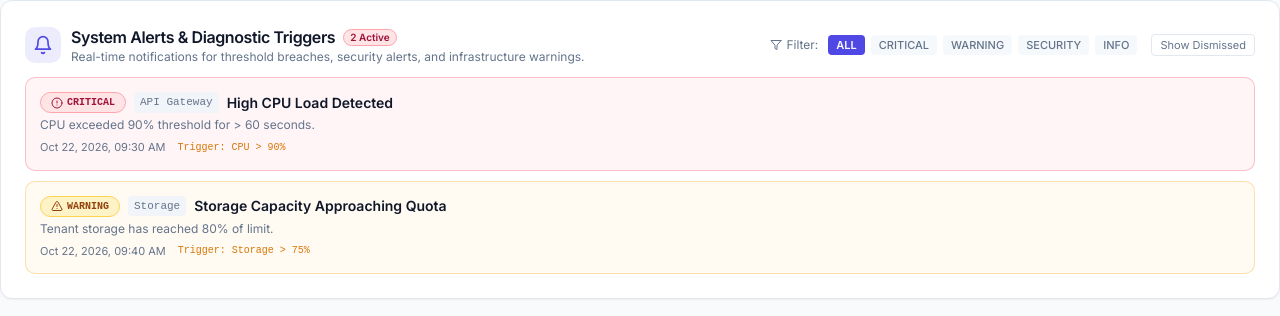
Phase 1.9 System Observability & Monitoring UI Components › AlertPanel Component › filters alerts when severity filter pill is clicked
The width and height of the screenshot is (1280, 316).
Click the button "CRITICAL".
click(904, 45)  # box [871,35,937,55]
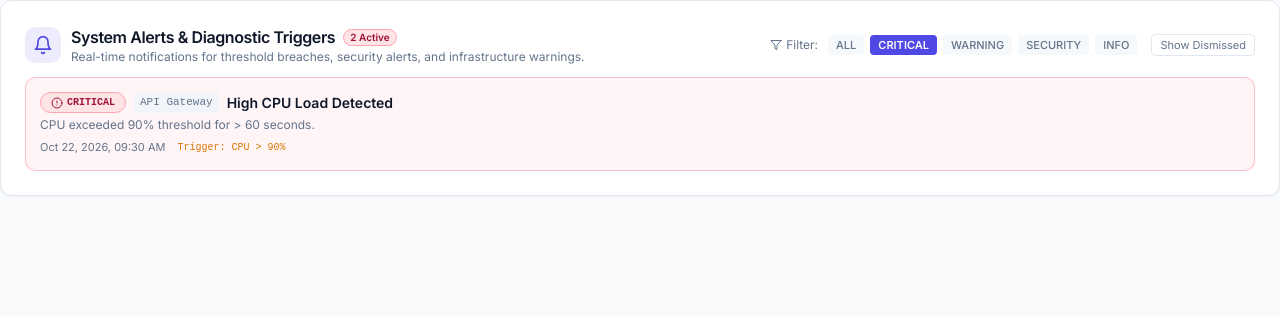
Expected: the text "High CPU Load Detected" is shown, [227,92,393,112]
Result: the text "Storage Capacity Approaching Quota" is gone
